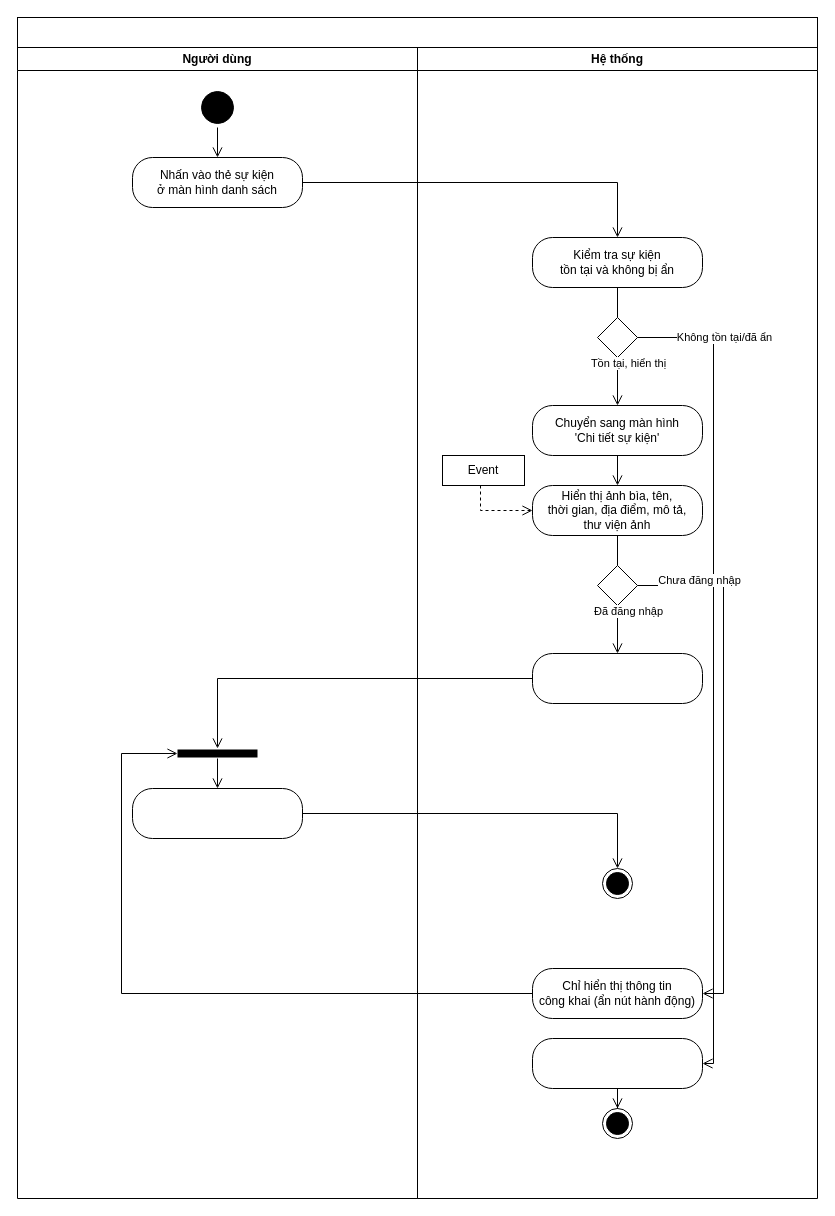
Image size: 835x1216. Some labels were removed from this diagram. The shapes that lost their labels are listed below. From the top down, each one's centre as x and y in pixels, then its label:
At pixel 417 32: "XEM CHI TIẾT SỰ KIỆN".
At pixel 617 678: "Hiển thị trạng thái đăng ký và nút Đăng ký/Huỷ/Vé".
At pixel 217 813: "Xem danh sách đánh giá công khai ở cuối trang".
At pixel 617 1063: "Hiển thị: 'Không tìm thấy sự kiện'".
